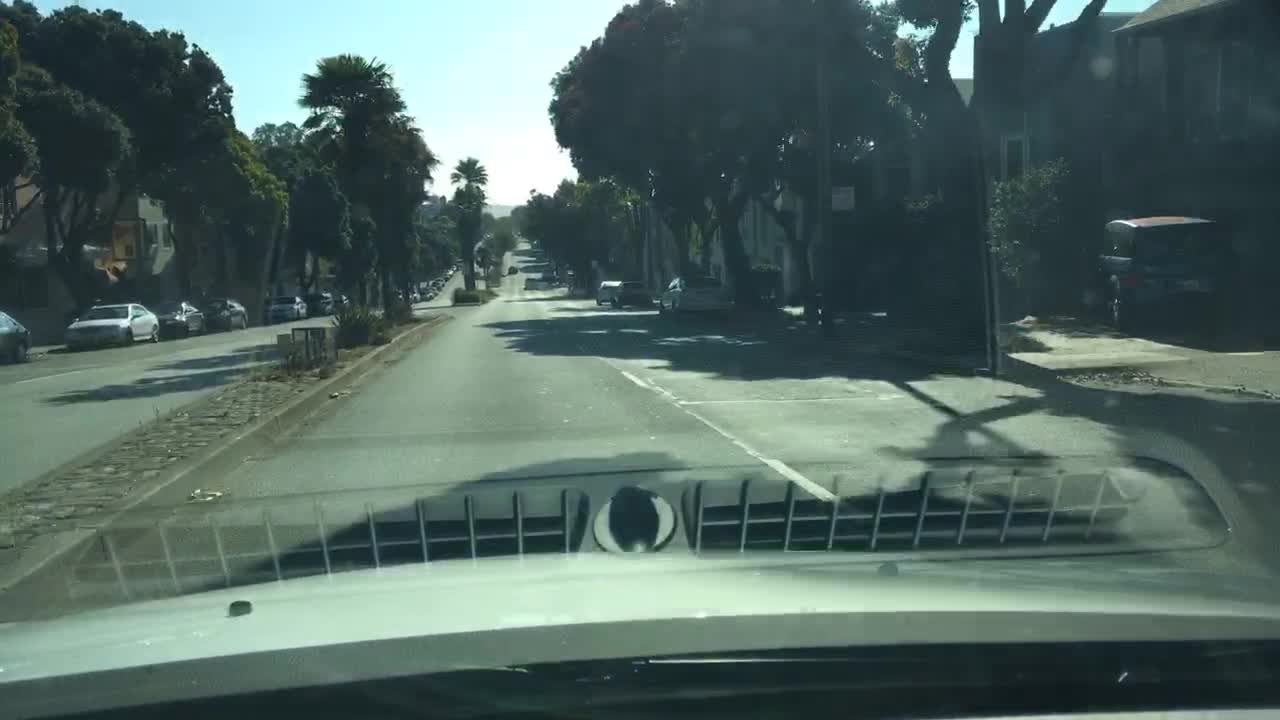car: (1076, 213, 1235, 332), (63, 303, 159, 350), (657, 272, 739, 313), (147, 300, 205, 338), (199, 296, 249, 330), (0, 311, 30, 365), (262, 295, 307, 323), (610, 279, 654, 304), (308, 289, 350, 314), (595, 280, 618, 305), (419, 286, 439, 302), (396, 289, 414, 305), (410, 286, 423, 303), (430, 282, 445, 293), (434, 279, 451, 286), (439, 275, 453, 283), (453, 257, 463, 267), (443, 270, 457, 277), (447, 264, 459, 272)
traffic sign: (831, 186, 856, 212)
